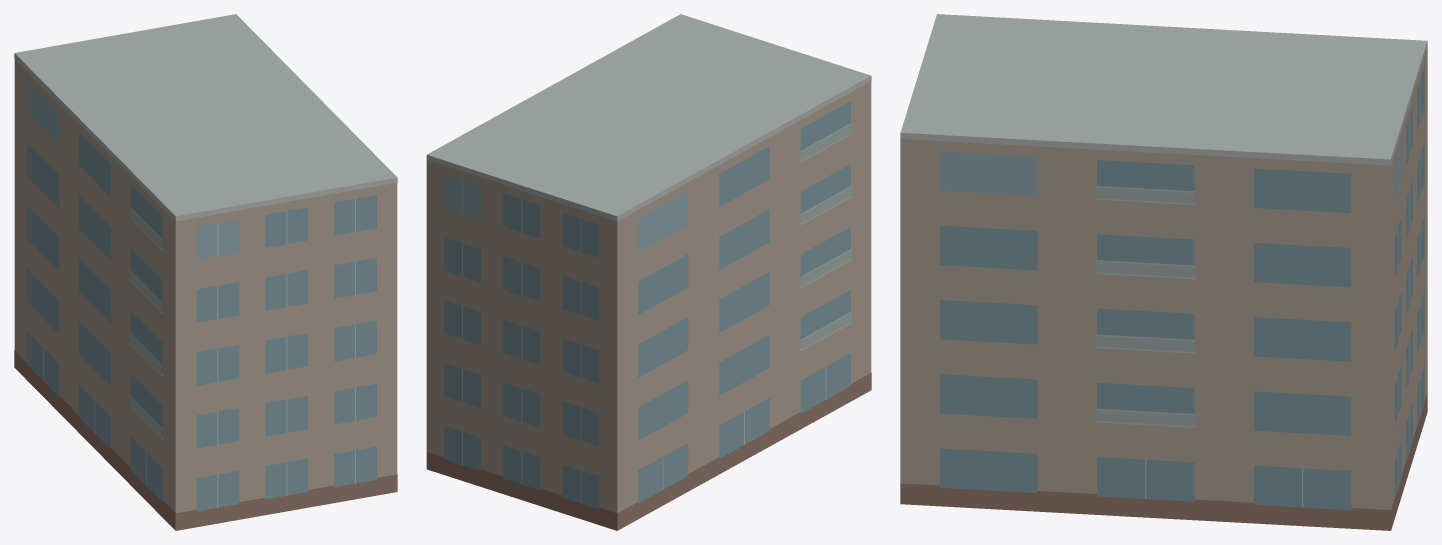
The model's file is survey-upis-32745902.glb.
3 renders of one model, left to right at view 1: azimuth 30°, elevation 25°; view 2: azimuth 150°, elevation 25°; view 3: azimuth 270°, elevation 25°, orthographic. The views are drawn at different scales.
Visible parts, largest first — view 1: survey-upis-32745902.tmp; view 2: survey-upis-32745902.tmp; view 3: survey-upis-32745902.tmp.
Boxes of the visible parts, x1,y1,x2,y2 form: survey-upis-32745902.tmp: [14, 14, 397, 530]; survey-upis-32745902.tmp: [426, 14, 871, 530]; survey-upis-32745902.tmp: [900, 14, 1427, 530].
Bounding box in the file's own units: 12.45 × 14.8 × 19.05.
